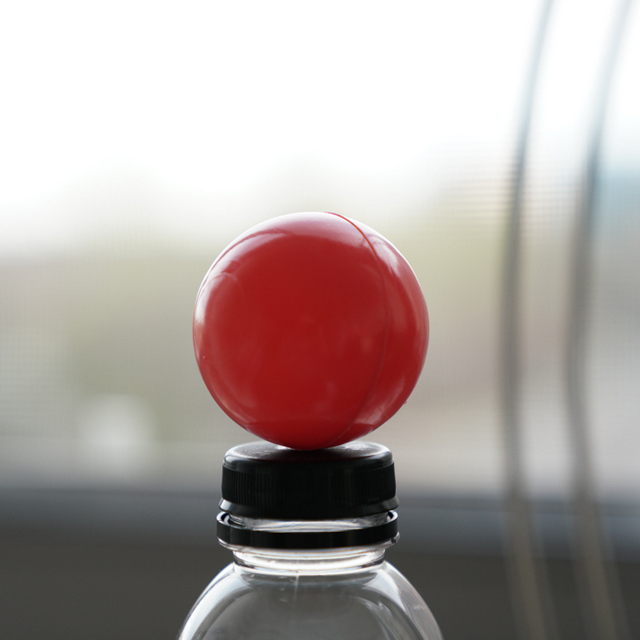Ball: (196, 209, 433, 445)
